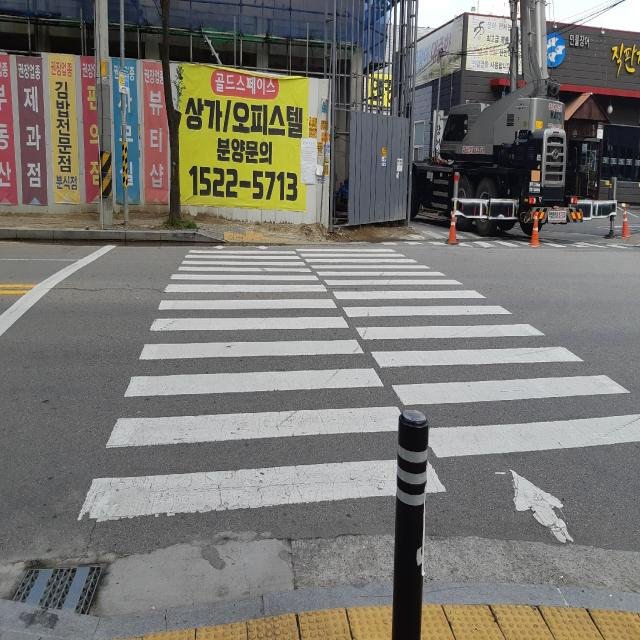횡단보도: (76, 242, 640, 544)
